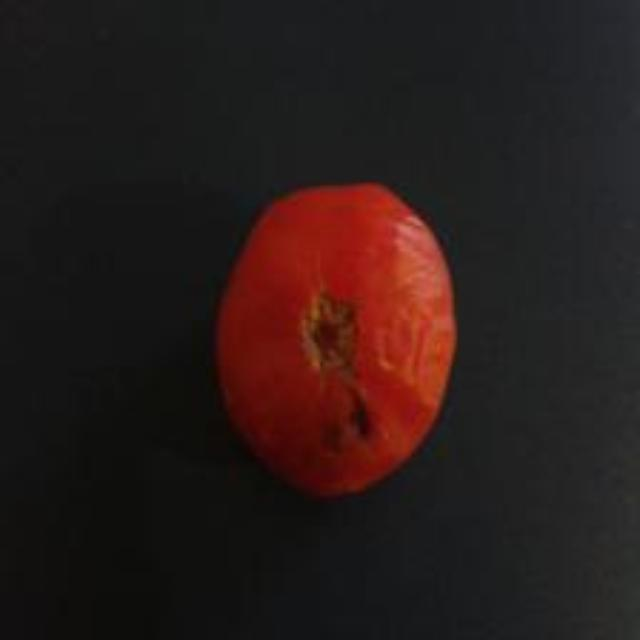defect: (210, 172, 464, 504)
